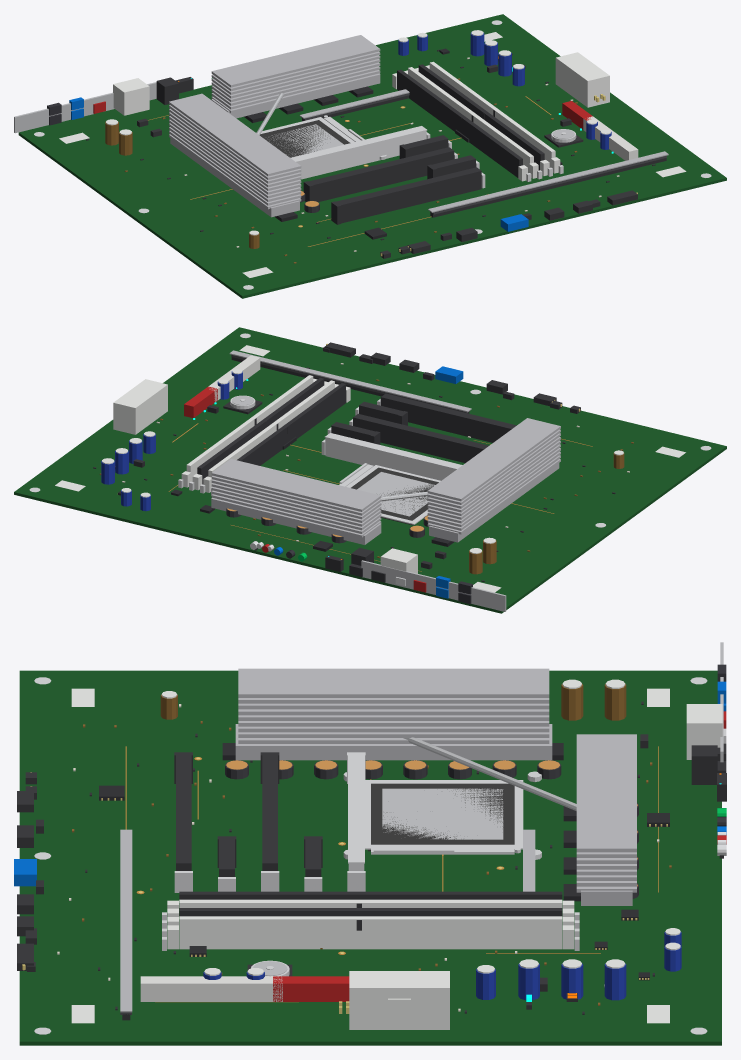
File: CC-Motherboard.fbx
3 views of the same model, one above another, from view 1: azimuth 30°, elevation 25°; view 2: azimuth 150°, elevation 25°; view 3: azimuth 270°, elevation 25° (orthographic). The views are drawn at different scales.
Visible parts, largest first — view 1: PCB_Main, VRM_HS_L_Fin_9, PCIe_x16_2_Body, VRM_HS_T_Fin_7, PCIe_x16_1_Body, DDR4_0_Body, ATX24_Shell, PCIe_x16_0_Body, CPU_ILM_Inner, DDR4_3_Body, DDR4_1_Body, DDR4_2_Body (+29 smaller); view 2: PCB_Main, VRM_HS_L_Fin_9, VRM_HS_T_Fin_7, PCIe_x16_2_Body, PCIe_x16_1_Body, DDR4_0_Body, ATX24_Shell, PCIe_x16_0_Body, IO_Shield, CPU_IHS_Label, DDR4_2_Body, DDR4_3_Body (+27 smaller); view 3: PCB_Main, DDR4_3_Body, VRM_HS_L_Fin_9, VRM_HS_T_Fin_7, CPU_IHS_Label, ATX24_Shell, CPU_ILM_Inner, VRM_HS_L_Base, DDR4_0_Body, DDR4_1_Body, DDR4_2_Body, VRM_HS_L_Fin_6 (+32 smaller).
Part boxes in pixels (bbox=[...]): PCB_Main: bbox=[18, 14, 726, 298]; VRM_HS_L_Fin_9: bbox=[169, 93, 301, 176]; PCIe_x16_2_Body: bbox=[336, 167, 481, 223]; VRM_HS_T_Fin_7: bbox=[211, 35, 380, 87]; PCIe_x16_1_Body: bbox=[308, 147, 454, 201]; DDR4_0_Body: bbox=[397, 69, 522, 177]; ATX24_Shell: bbox=[555, 52, 609, 107]; PCIe_x16_0_Body: bbox=[297, 131, 426, 179]; CPU_ILM_Inner: bbox=[260, 120, 350, 157]; DDR4_3_Body: bbox=[429, 61, 555, 167]; DDR4_1_Body: bbox=[408, 67, 533, 172]; DDR4_2_Body: bbox=[418, 64, 544, 170]; PCB_Main: bbox=[14, 327, 726, 613]; VRM_HS_L_Fin_9: bbox=[427, 418, 560, 501]; VRM_HS_T_Fin_7: bbox=[211, 459, 381, 511]; PCIe_x16_2_Body: bbox=[380, 393, 516, 442]; PCIe_x16_1_Body: bbox=[353, 413, 488, 463]; DDR4_0_Body: bbox=[237, 383, 345, 465]; ATX24_Shell: bbox=[113, 379, 167, 434]; PCIe_x16_0_Body: bbox=[325, 438, 455, 480]; IO_Shield: bbox=[361, 560, 506, 611]; CPU_IHS_Label: bbox=[357, 472, 434, 516]; DDR4_2_Body: bbox=[197, 377, 324, 484]; DDR4_3_Body: bbox=[186, 375, 313, 481]; PCB_Main: bbox=[19, 670, 721, 1045]; DDR4_3_Body: bbox=[179, 916, 562, 949]; VRM_HS_L_Fin_9: bbox=[238, 668, 549, 697]; VRM_HS_T_Fin_7: bbox=[576, 734, 636, 852]; CPU_IHS_Label: bbox=[382, 788, 503, 839]; ATX24_Shell: bbox=[349, 971, 449, 1029]; CPU_ILM_Inner: bbox=[371, 783, 514, 844]; VRM_HS_L_Base: bbox=[235, 724, 552, 760]; DDR4_0_Body: bbox=[179, 891, 562, 899]; DDR4_1_Body: bbox=[179, 899, 562, 907]; DDR4_2_Body: bbox=[179, 908, 562, 916]; VRM_HS_L_Fin_6: bbox=[238, 709, 549, 715].
Bounding box in the file's own units: 307 × 30.4 × 248.
